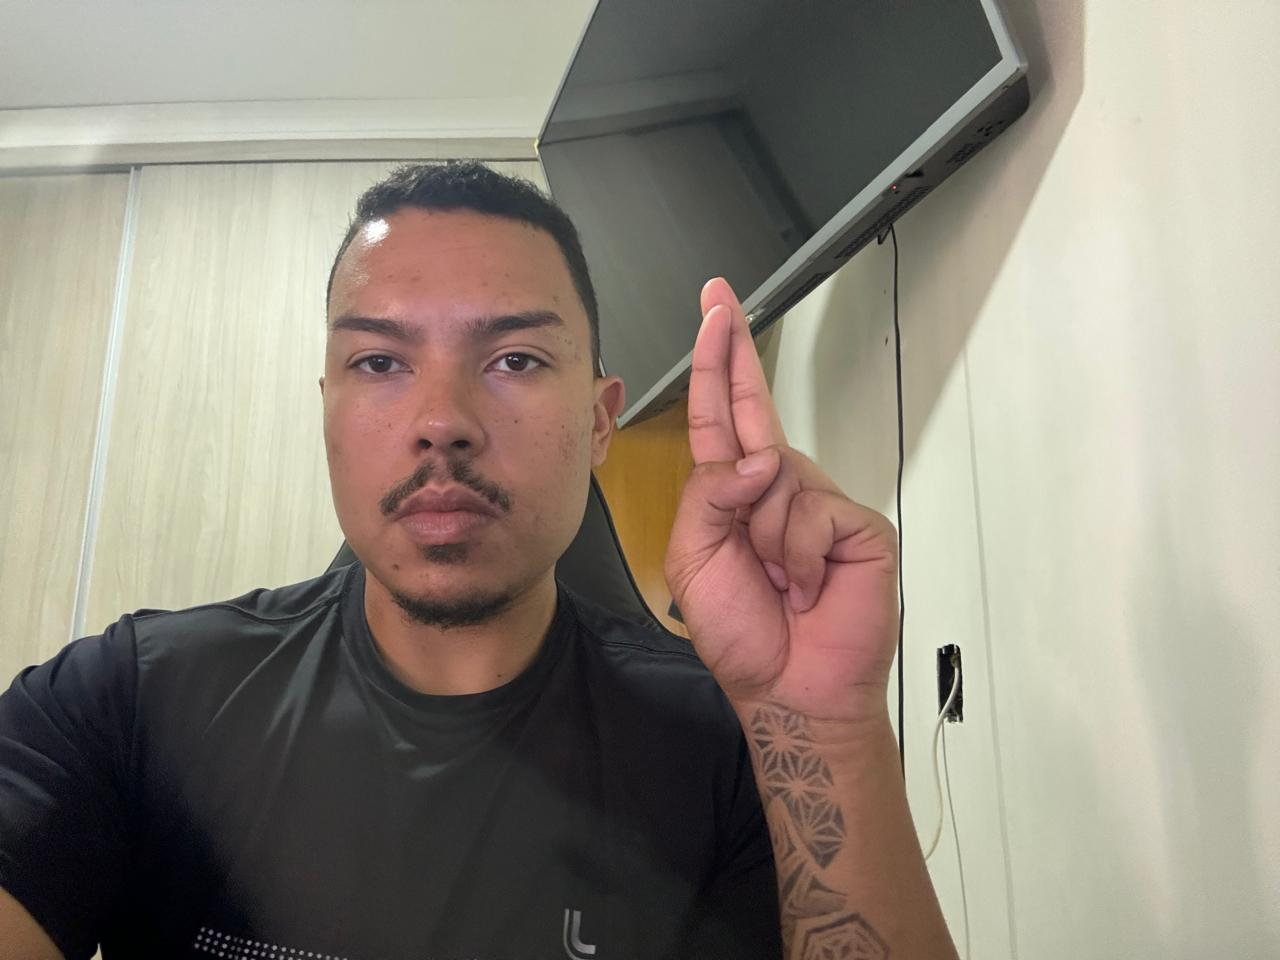r: (657, 268, 914, 739)
